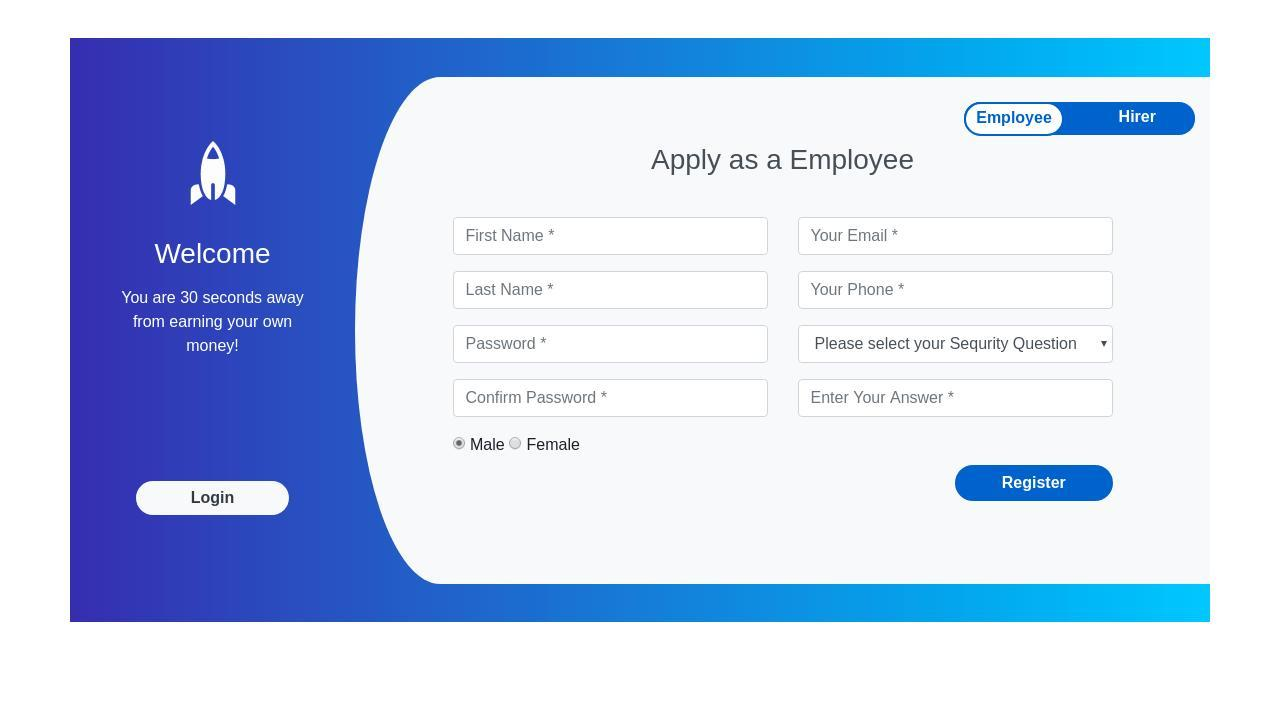button: (955, 464, 1117, 504), (136, 482, 291, 516), (964, 104, 1064, 136)
dropdown: (799, 325, 1115, 364)
input: (798, 217, 1115, 258), (453, 325, 770, 366), (797, 379, 1115, 419), (798, 271, 1115, 311), (454, 379, 770, 419), (454, 217, 769, 257), (453, 272, 770, 310)
label: (527, 434, 584, 455), (1118, 108, 1160, 128), (470, 435, 505, 455)
radio: (508, 435, 525, 454), (452, 435, 468, 454)
